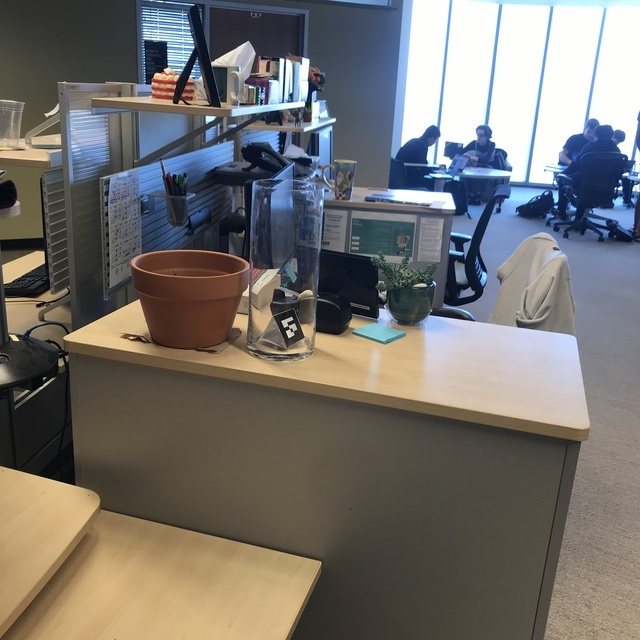ARTag: (258, 308, 306, 348)
